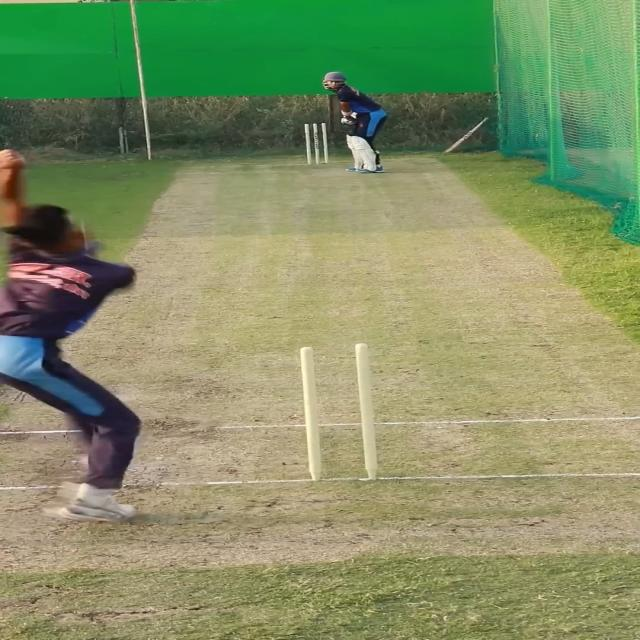stump: (298, 342, 380, 480), (302, 122, 332, 165)
